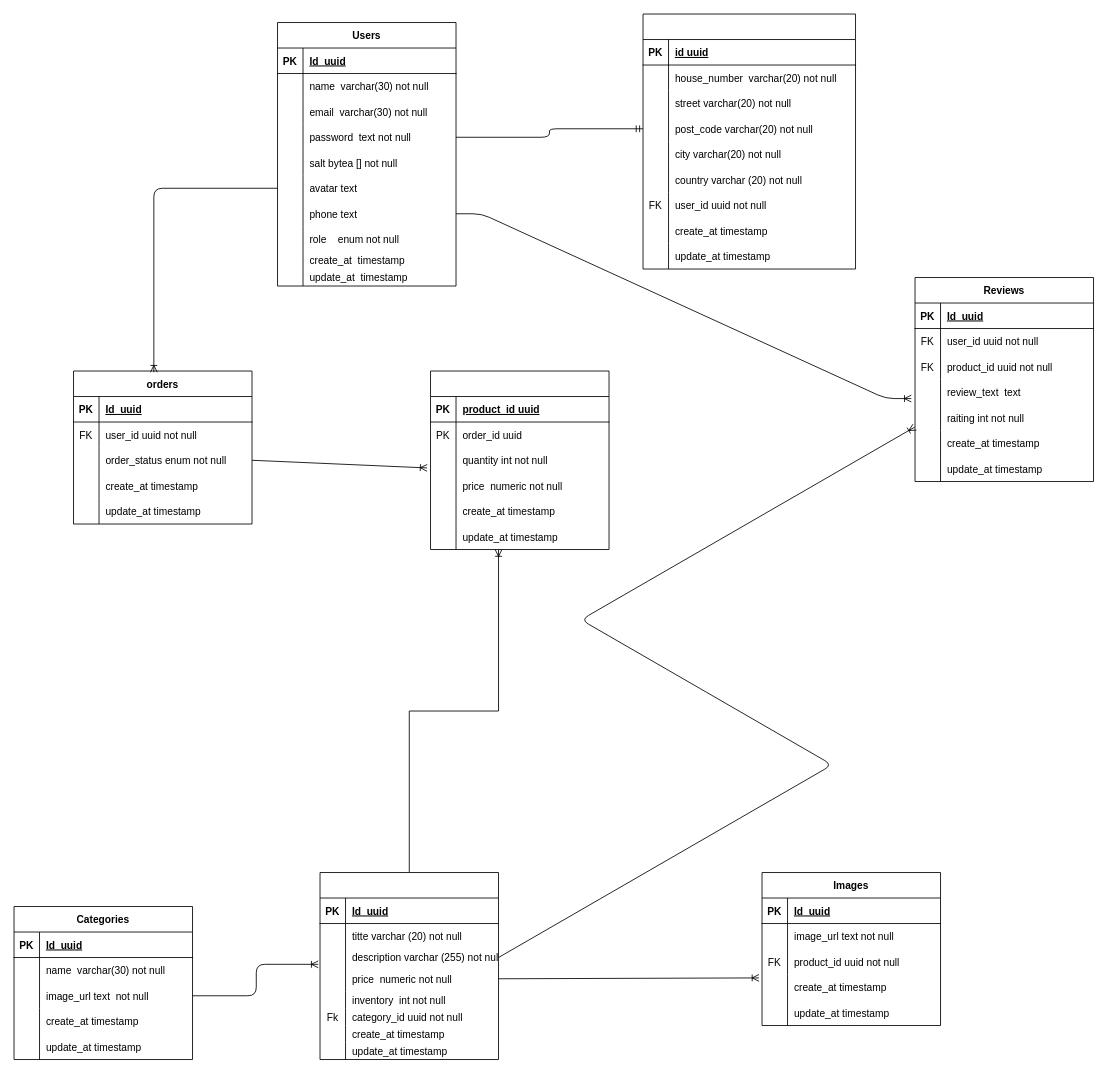
The diagram is 1108 pixels wide and 1074 high, and some of its shapes have lost their labels. Each missing label, with the box of its shape:
Addresses: (642, 13, 856, 269)
orders_products: (430, 370, 609, 550)
Products: (319, 872, 499, 1060)
